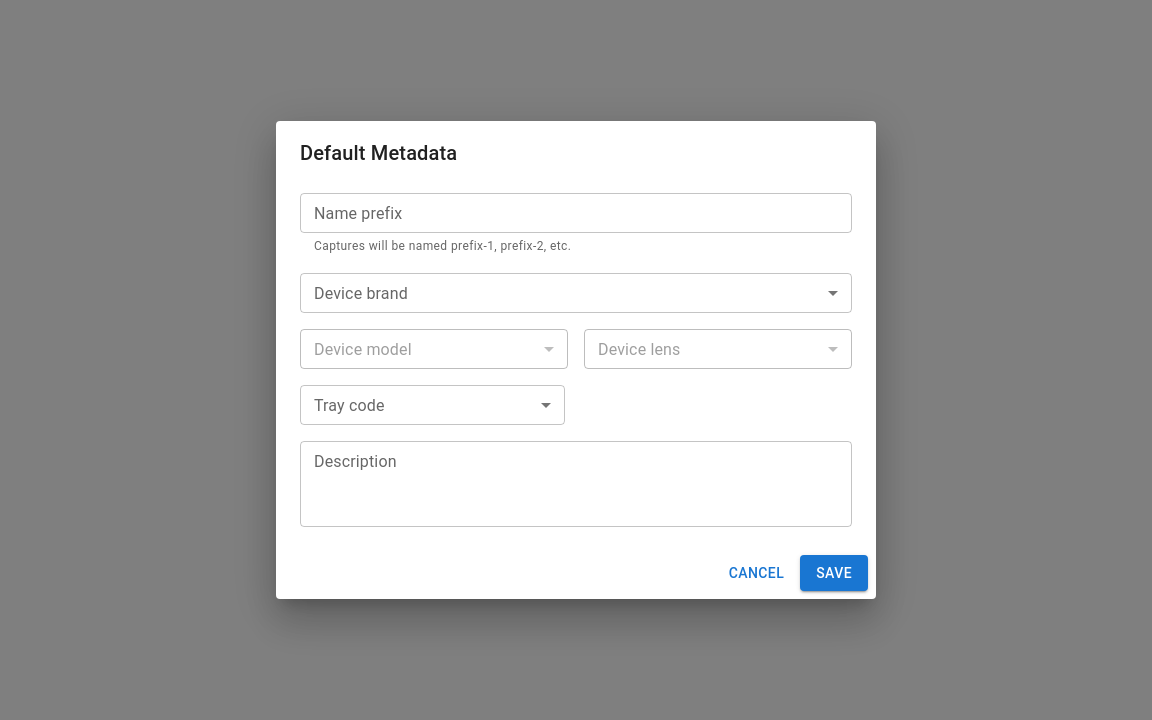
Scenario: MetadataDialog › defaults mode › shows a validation error for an invalid name prefix
In the field labelled "Name prefix": (576, 213) x1=300 y1=193 x2=852 y2=233, type "bad name!"
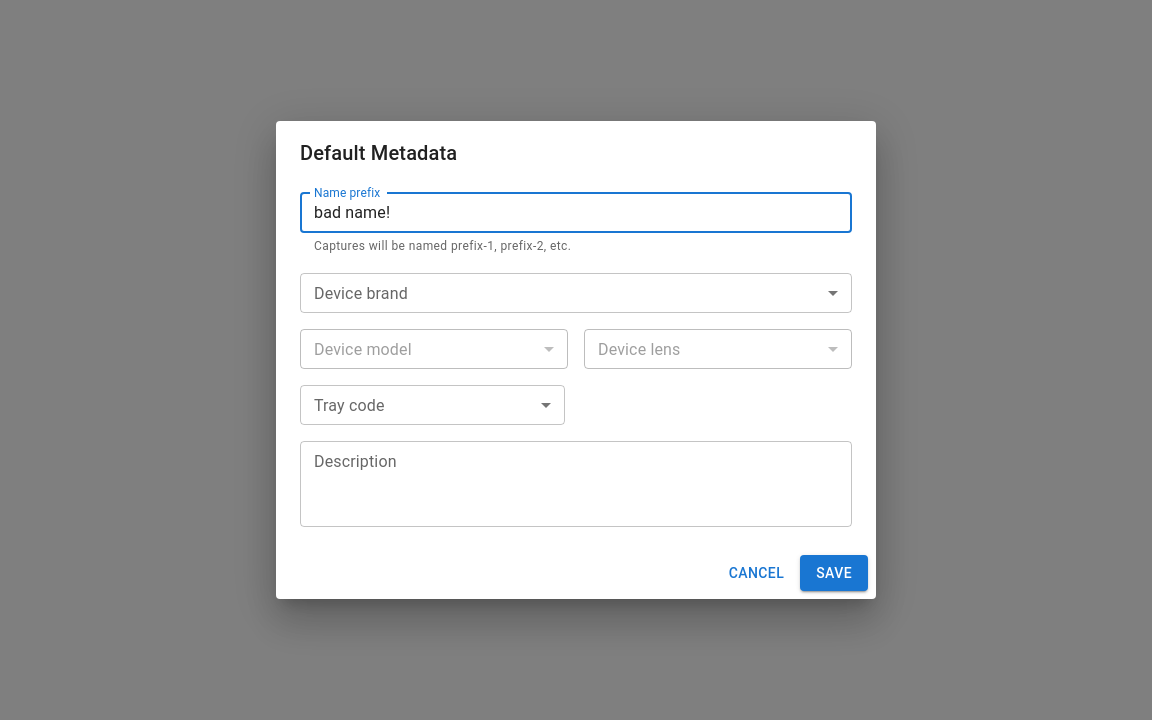
Click the button "Save": (834, 573) x1=800 y1=555 x2=868 y2=591
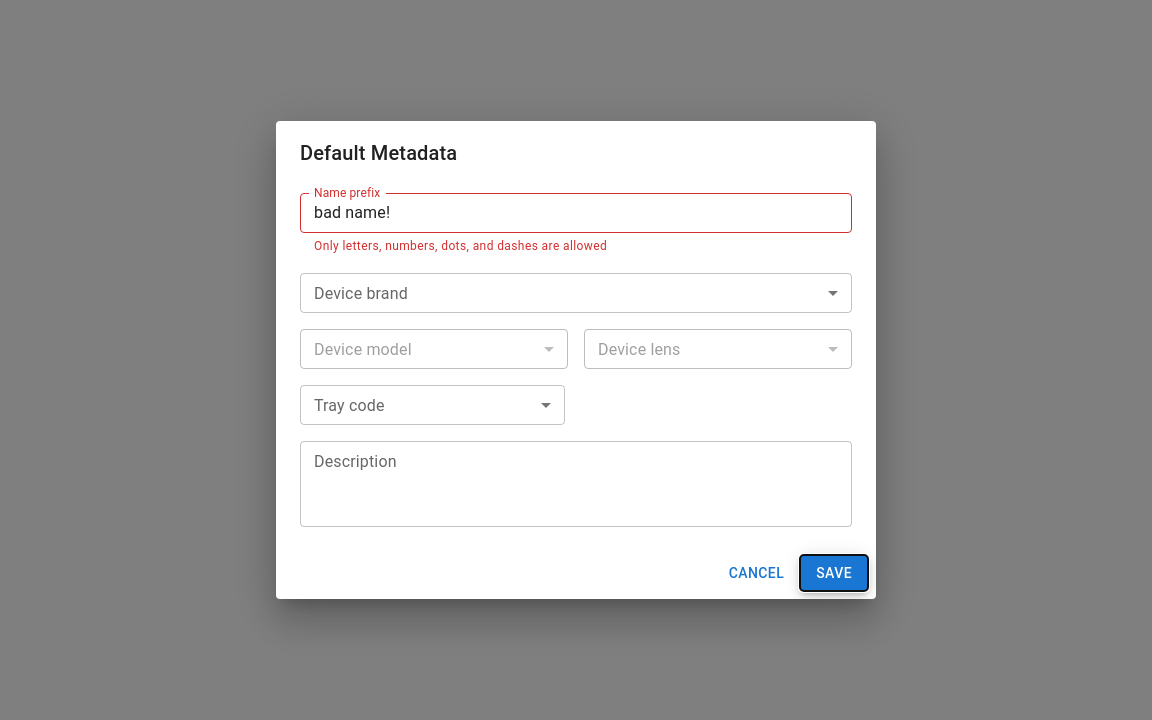
expect the text "Only letters, numbers, dots, and dashes are allowed" is shown: met, box x1=314 y1=239 x2=607 y2=253
